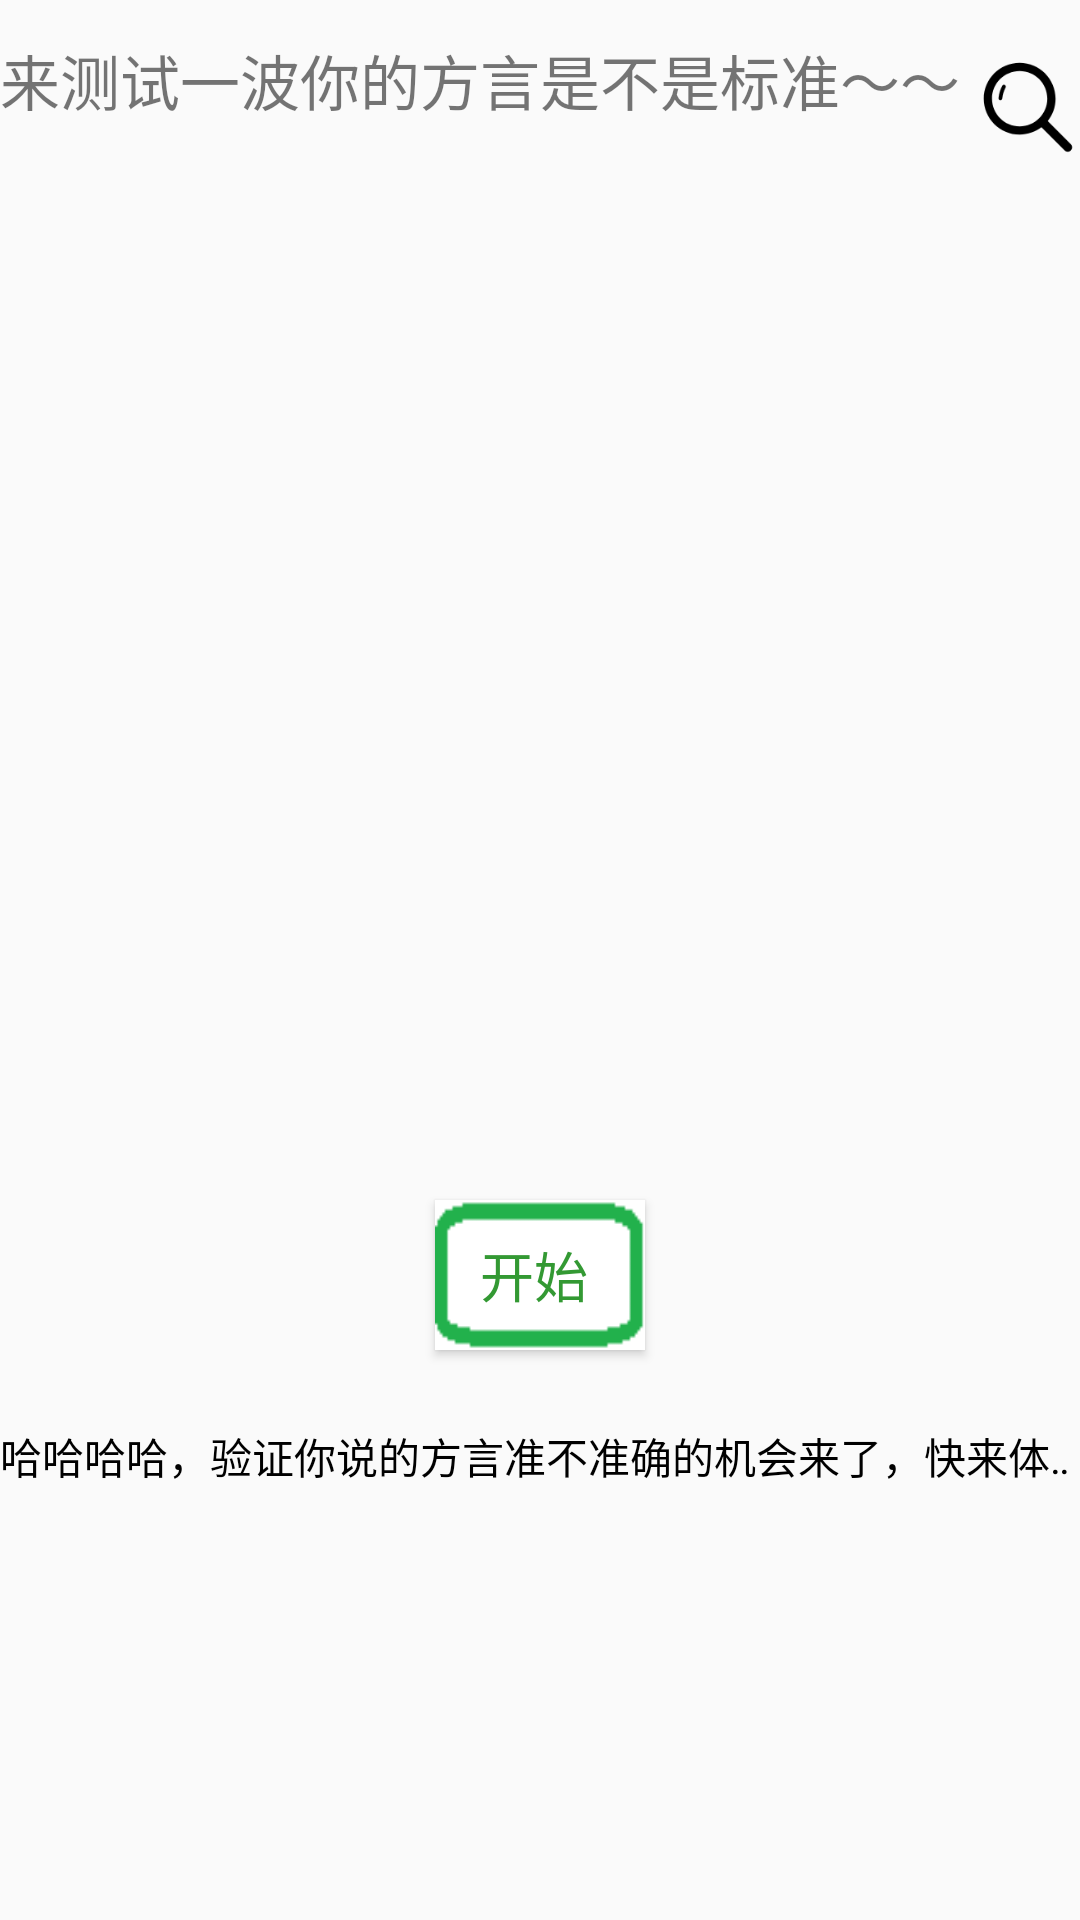

Icons on this 1080 x 1920 Android screen, each with the point to tap as (x,y):
fangda: (1028,107)
